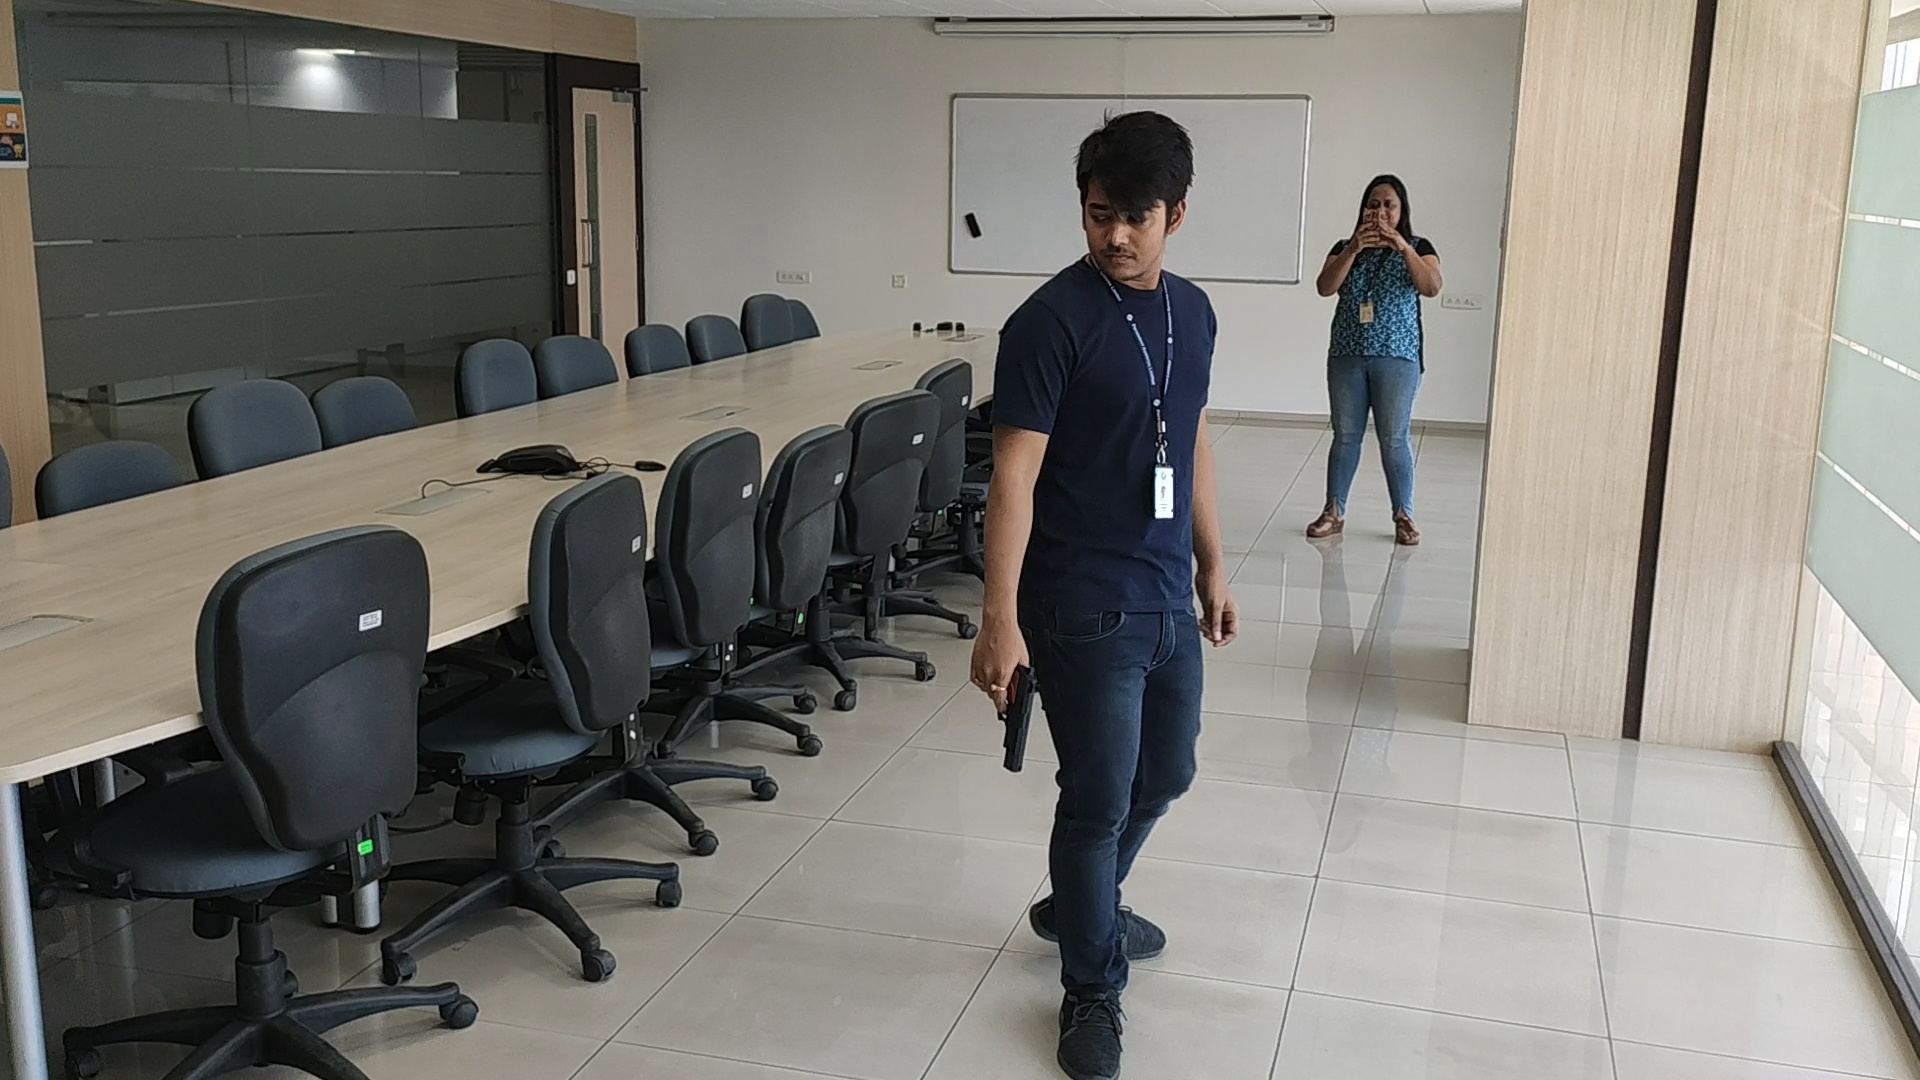gun: (1001, 666, 1038, 773)
